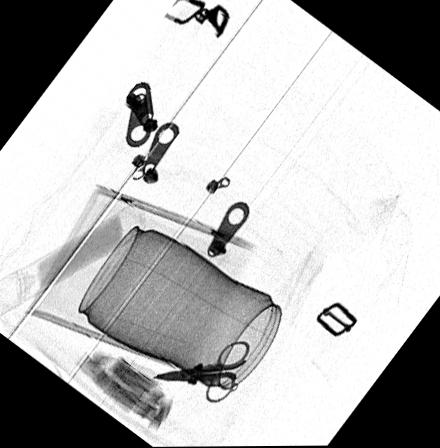Scissors: (152, 339, 252, 404)
